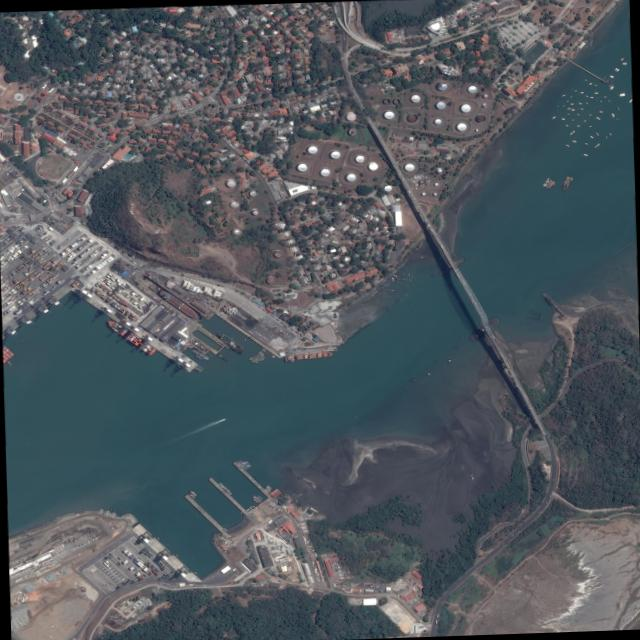ship: (144, 268, 214, 319), (102, 316, 158, 356), (158, 288, 199, 318), (215, 330, 246, 353), (284, 350, 334, 361), (190, 338, 208, 351), (217, 480, 232, 494), (191, 348, 209, 359), (561, 175, 573, 190), (247, 350, 265, 360), (261, 346, 276, 357), (236, 459, 247, 470), (238, 458, 249, 468), (545, 179, 554, 188), (193, 352, 203, 360), (188, 488, 198, 496), (592, 141, 600, 148), (243, 459, 250, 467), (187, 491, 196, 497), (245, 459, 252, 466), (256, 348, 263, 354), (264, 485, 271, 491), (266, 483, 272, 489), (193, 363, 199, 369), (198, 366, 204, 372), (196, 365, 202, 370), (610, 112, 615, 117), (609, 84, 614, 89), (595, 115, 601, 119), (619, 91, 625, 95), (296, 492, 302, 496), (569, 129, 575, 133), (256, 495, 261, 499), (257, 494, 262, 498), (253, 497, 258, 501), (570, 107, 576, 110), (291, 492, 297, 495), (250, 504, 254, 508), (583, 152, 588, 155), (248, 503, 253, 506), (609, 74, 614, 77), (220, 417, 225, 420), (620, 55, 623, 59), (588, 81, 592, 84), (607, 98, 611, 101), (280, 493, 284, 496), (595, 131, 599, 134), (572, 139, 577, 141), (614, 66, 617, 69), (599, 98, 602, 101), (585, 100, 588, 103), (624, 61, 627, 64), (621, 56, 624, 59), (384, 282, 387, 285), (590, 134, 593, 137), (588, 124, 592, 126), (578, 101, 582, 103), (580, 90, 584, 92), (561, 93, 565, 95), (284, 492, 286, 496), (542, 183, 546, 185), (543, 181, 547, 183), (545, 179, 549, 181), (584, 141, 588, 143), (552, 115, 556, 117), (566, 143, 570, 145), (615, 67, 618, 69), (609, 131, 611, 134), (599, 109, 602, 111), (571, 117, 574, 119), (576, 112, 579, 114), (585, 93, 588, 95), (584, 78, 587, 80), (616, 68, 619, 70), (623, 61, 626, 63), (622, 60, 624, 63), (617, 105, 619, 108), (594, 83, 597, 85), (543, 182, 546, 184), (471, 475, 473, 478), (567, 106, 570, 108), (565, 123, 568, 125), (547, 176, 549, 179), (589, 95, 593, 96), (576, 124, 580, 125), (594, 91, 598, 92), (570, 94, 572, 96), (421, 255, 423, 257), (567, 112, 569, 114), (561, 117, 565, 118), (545, 179, 549, 180), (606, 134, 607, 137), (588, 113, 591, 114), (583, 119, 586, 120), (580, 107, 583, 108), (574, 89, 577, 90), (603, 95, 606, 96), (570, 88, 573, 89), (388, 281, 389, 284), (566, 99, 569, 100), (570, 102, 573, 103), (562, 104, 564, 105)
storage-tank: (435, 79, 448, 90), (459, 101, 472, 112), (344, 171, 357, 181), (295, 161, 308, 171), (328, 148, 341, 158), (408, 92, 421, 102), (319, 166, 331, 176), (306, 143, 318, 153), (406, 112, 418, 122), (345, 110, 357, 120), (455, 121, 467, 131), (402, 161, 415, 170), (225, 177, 236, 187), (264, 274, 276, 283), (367, 160, 379, 169), (354, 153, 366, 162), (382, 109, 394, 118), (434, 99, 446, 108), (474, 113, 486, 122), (230, 226, 241, 235), (272, 248, 283, 257), (346, 126, 357, 135), (466, 84, 478, 92), (228, 199, 239, 207), (249, 207, 260, 214), (383, 183, 392, 191), (433, 116, 442, 124), (392, 96, 400, 104), (248, 188, 257, 195), (418, 177, 427, 184), (382, 97, 390, 103), (436, 166, 443, 172), (481, 101, 488, 107), (433, 180, 439, 185), (483, 92, 489, 97), (420, 191, 426, 195), (433, 191, 437, 195)
